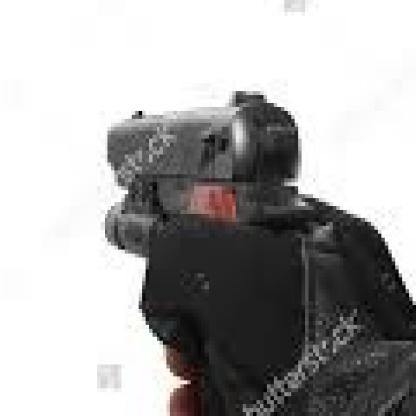gun: (80, 75, 312, 412)
